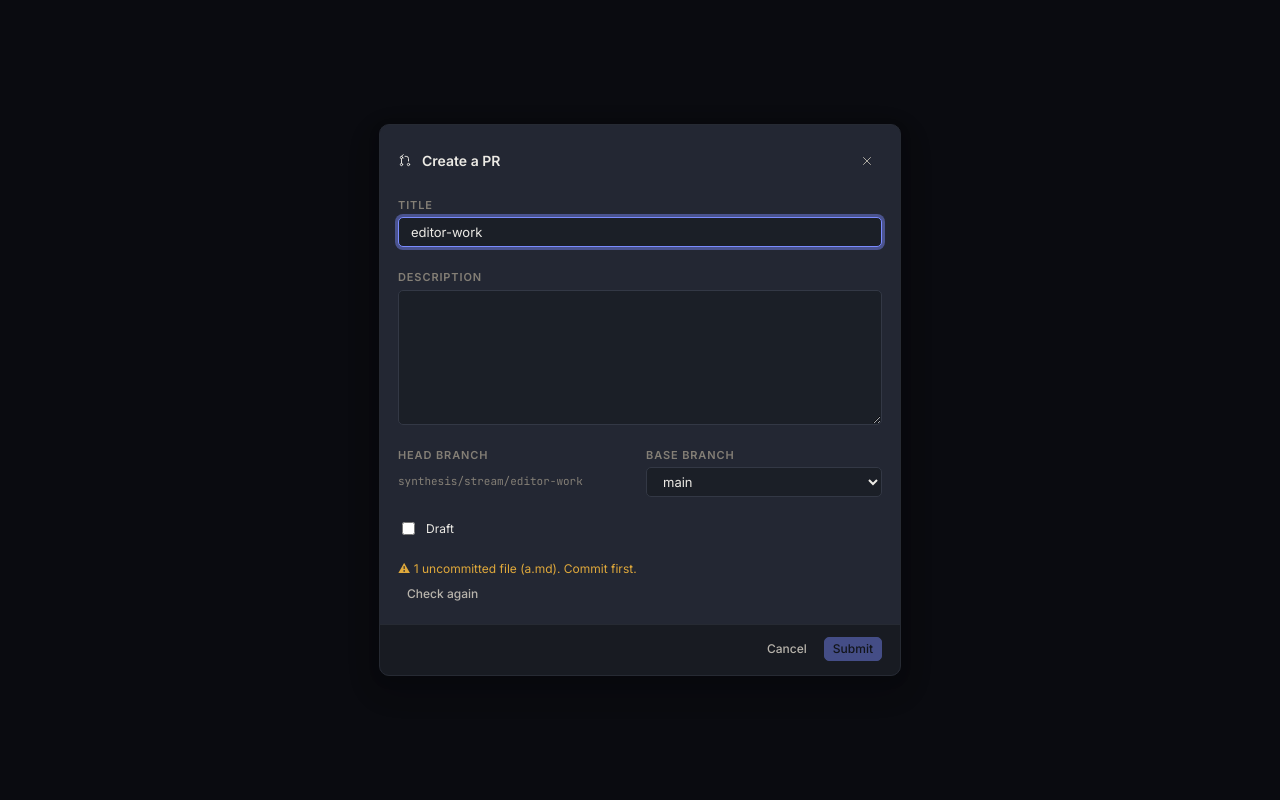
Test case: what the window reads and blocks on (CPR-FR-SQGZ, CPR-FR-VYPG, CPR-FR-WJIA) › CPR-FR-SQGZ: Check again reads anew, so an author who commits elsewhere continues
This screenshot has width=1280, height=800.
Expected: the text with test id "create-pr-block-uncommitted" shows "1 uncommitted file (a.md). Commit first.", left=414, top=561, right=637, bottom=576
Expected: the button with test id "create-pr-submit" is disabled, left=824, top=637, right=882, bottom=661
Click the button with test id "create-pr-recheck" at (443, 594), box left=398, top=582, right=487, bottom=606
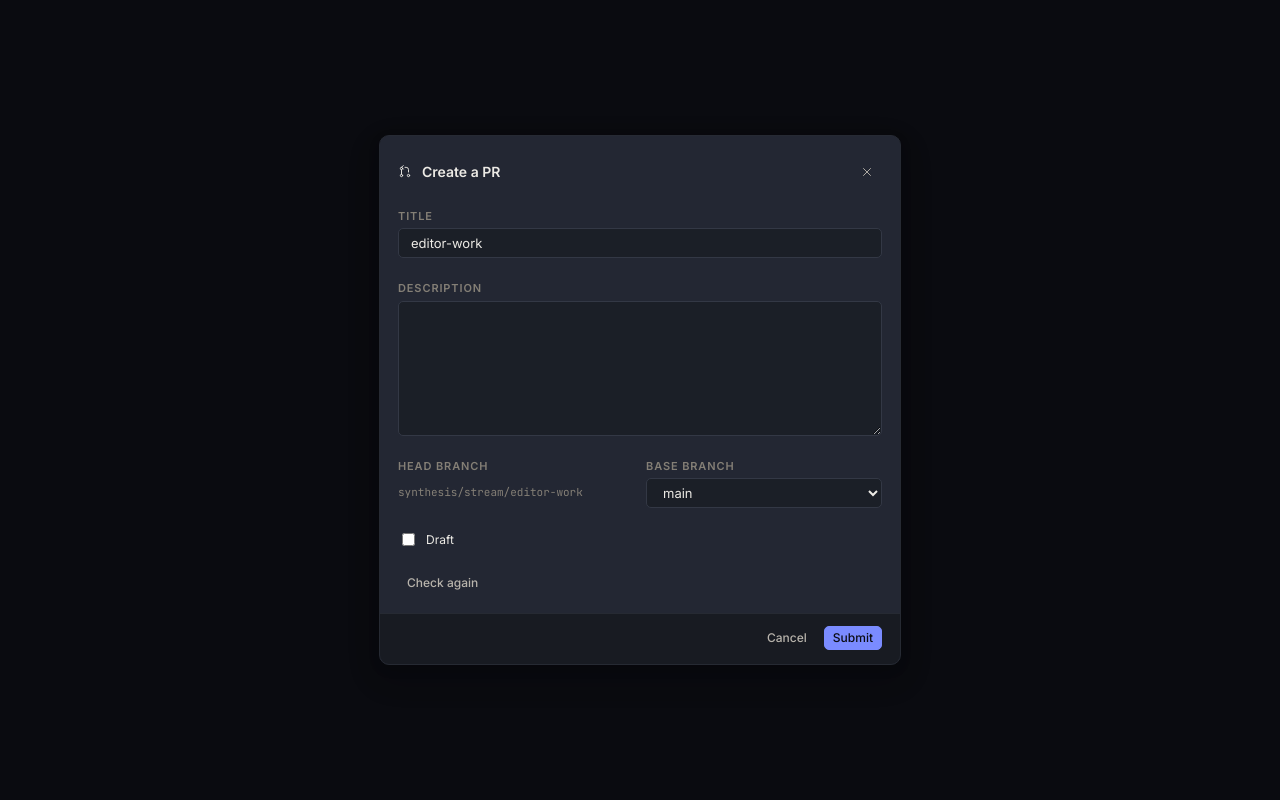
Result: the text with test id "create-pr-block-uncommitted" is gone
Result: the button with test id "create-pr-submit" is enabled at left=824, top=626, right=882, bottom=650
